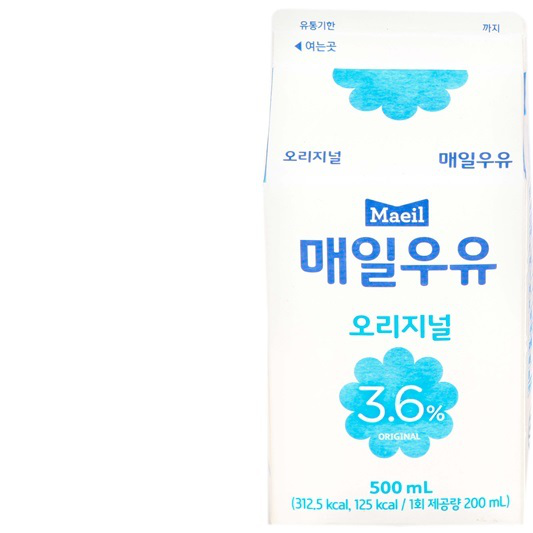milk: (262, 7, 532, 526)
